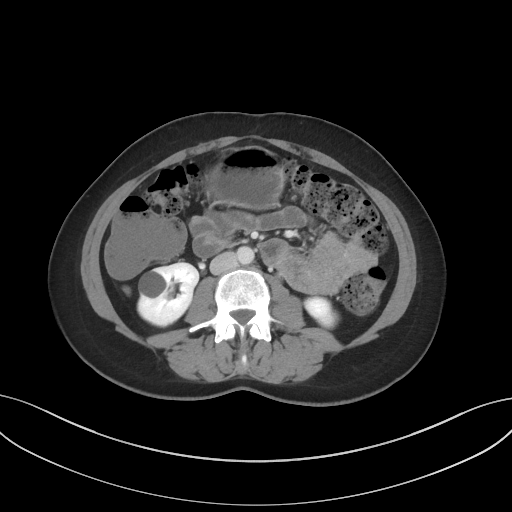Lesion: (134, 269, 170, 301)
